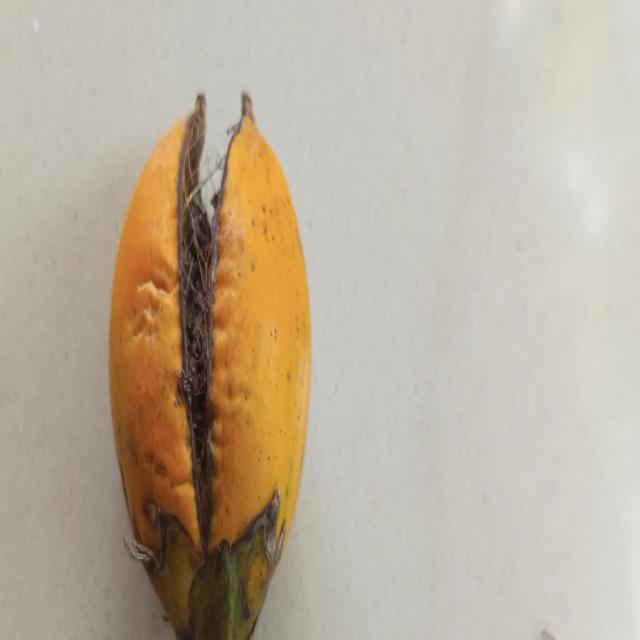damaged: (109, 94, 313, 640)
